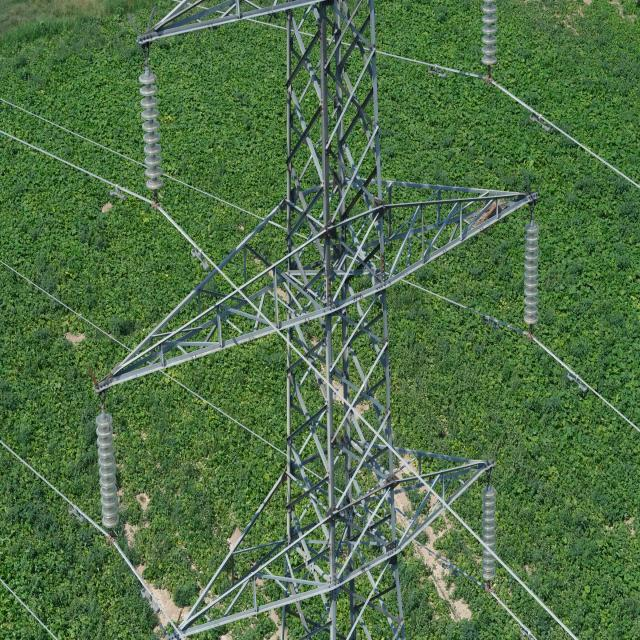direk: (149, 0, 485, 636)
